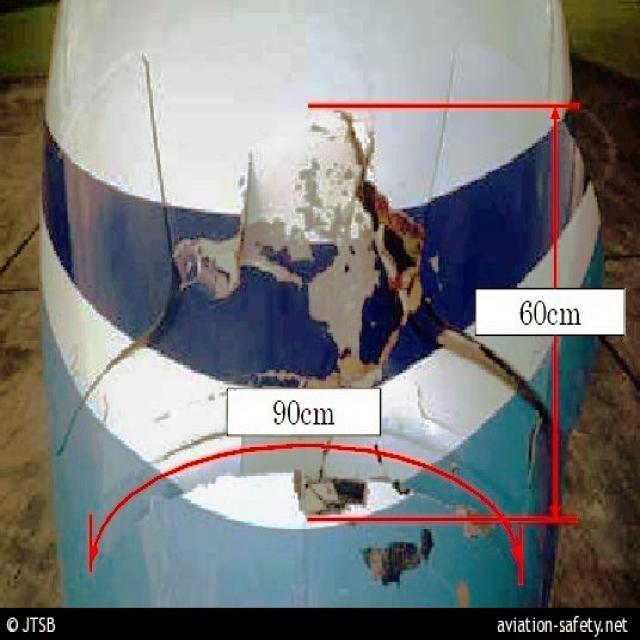crack: (336, 114, 551, 482), (220, 146, 267, 307)
